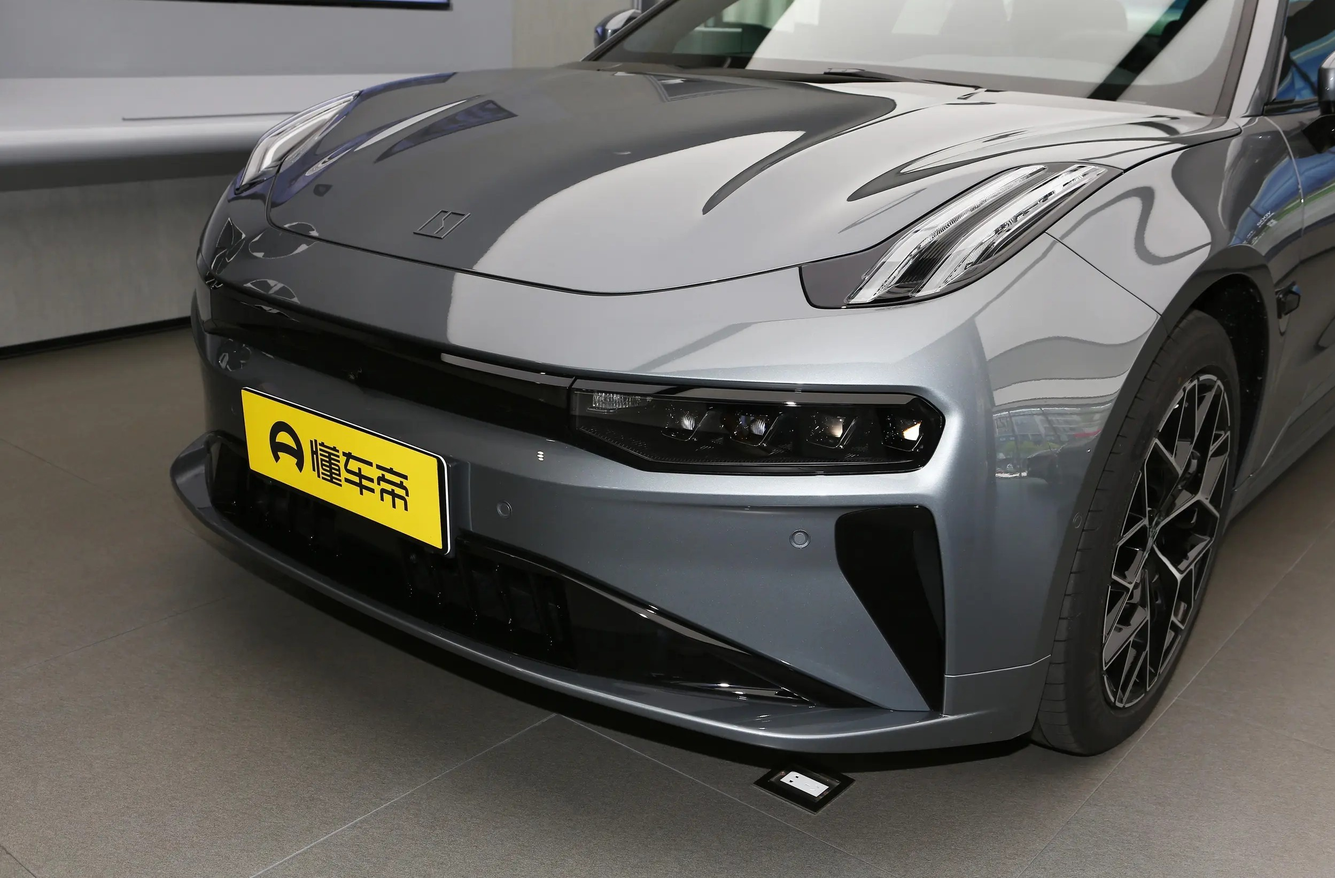ZEEKR: (414, 208, 470, 239)
